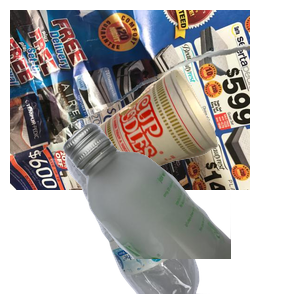glass: (60, 120, 300, 300)
paper: (10, 10, 250, 190)
plastic: (63, 120, 263, 300)
trash: (95, 67, 300, 238)
